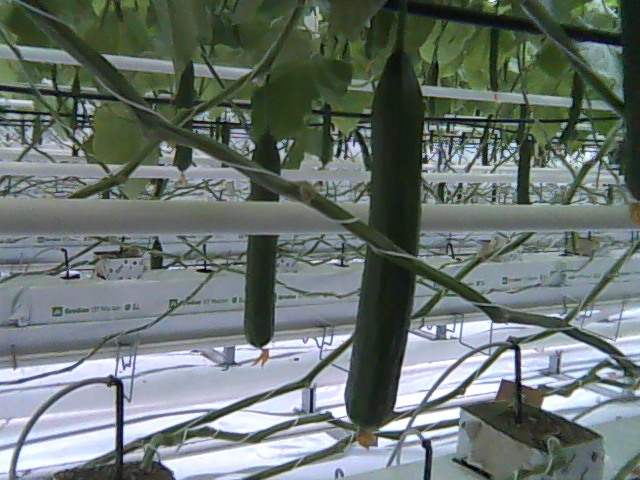concombre: (343, 33, 429, 452)
